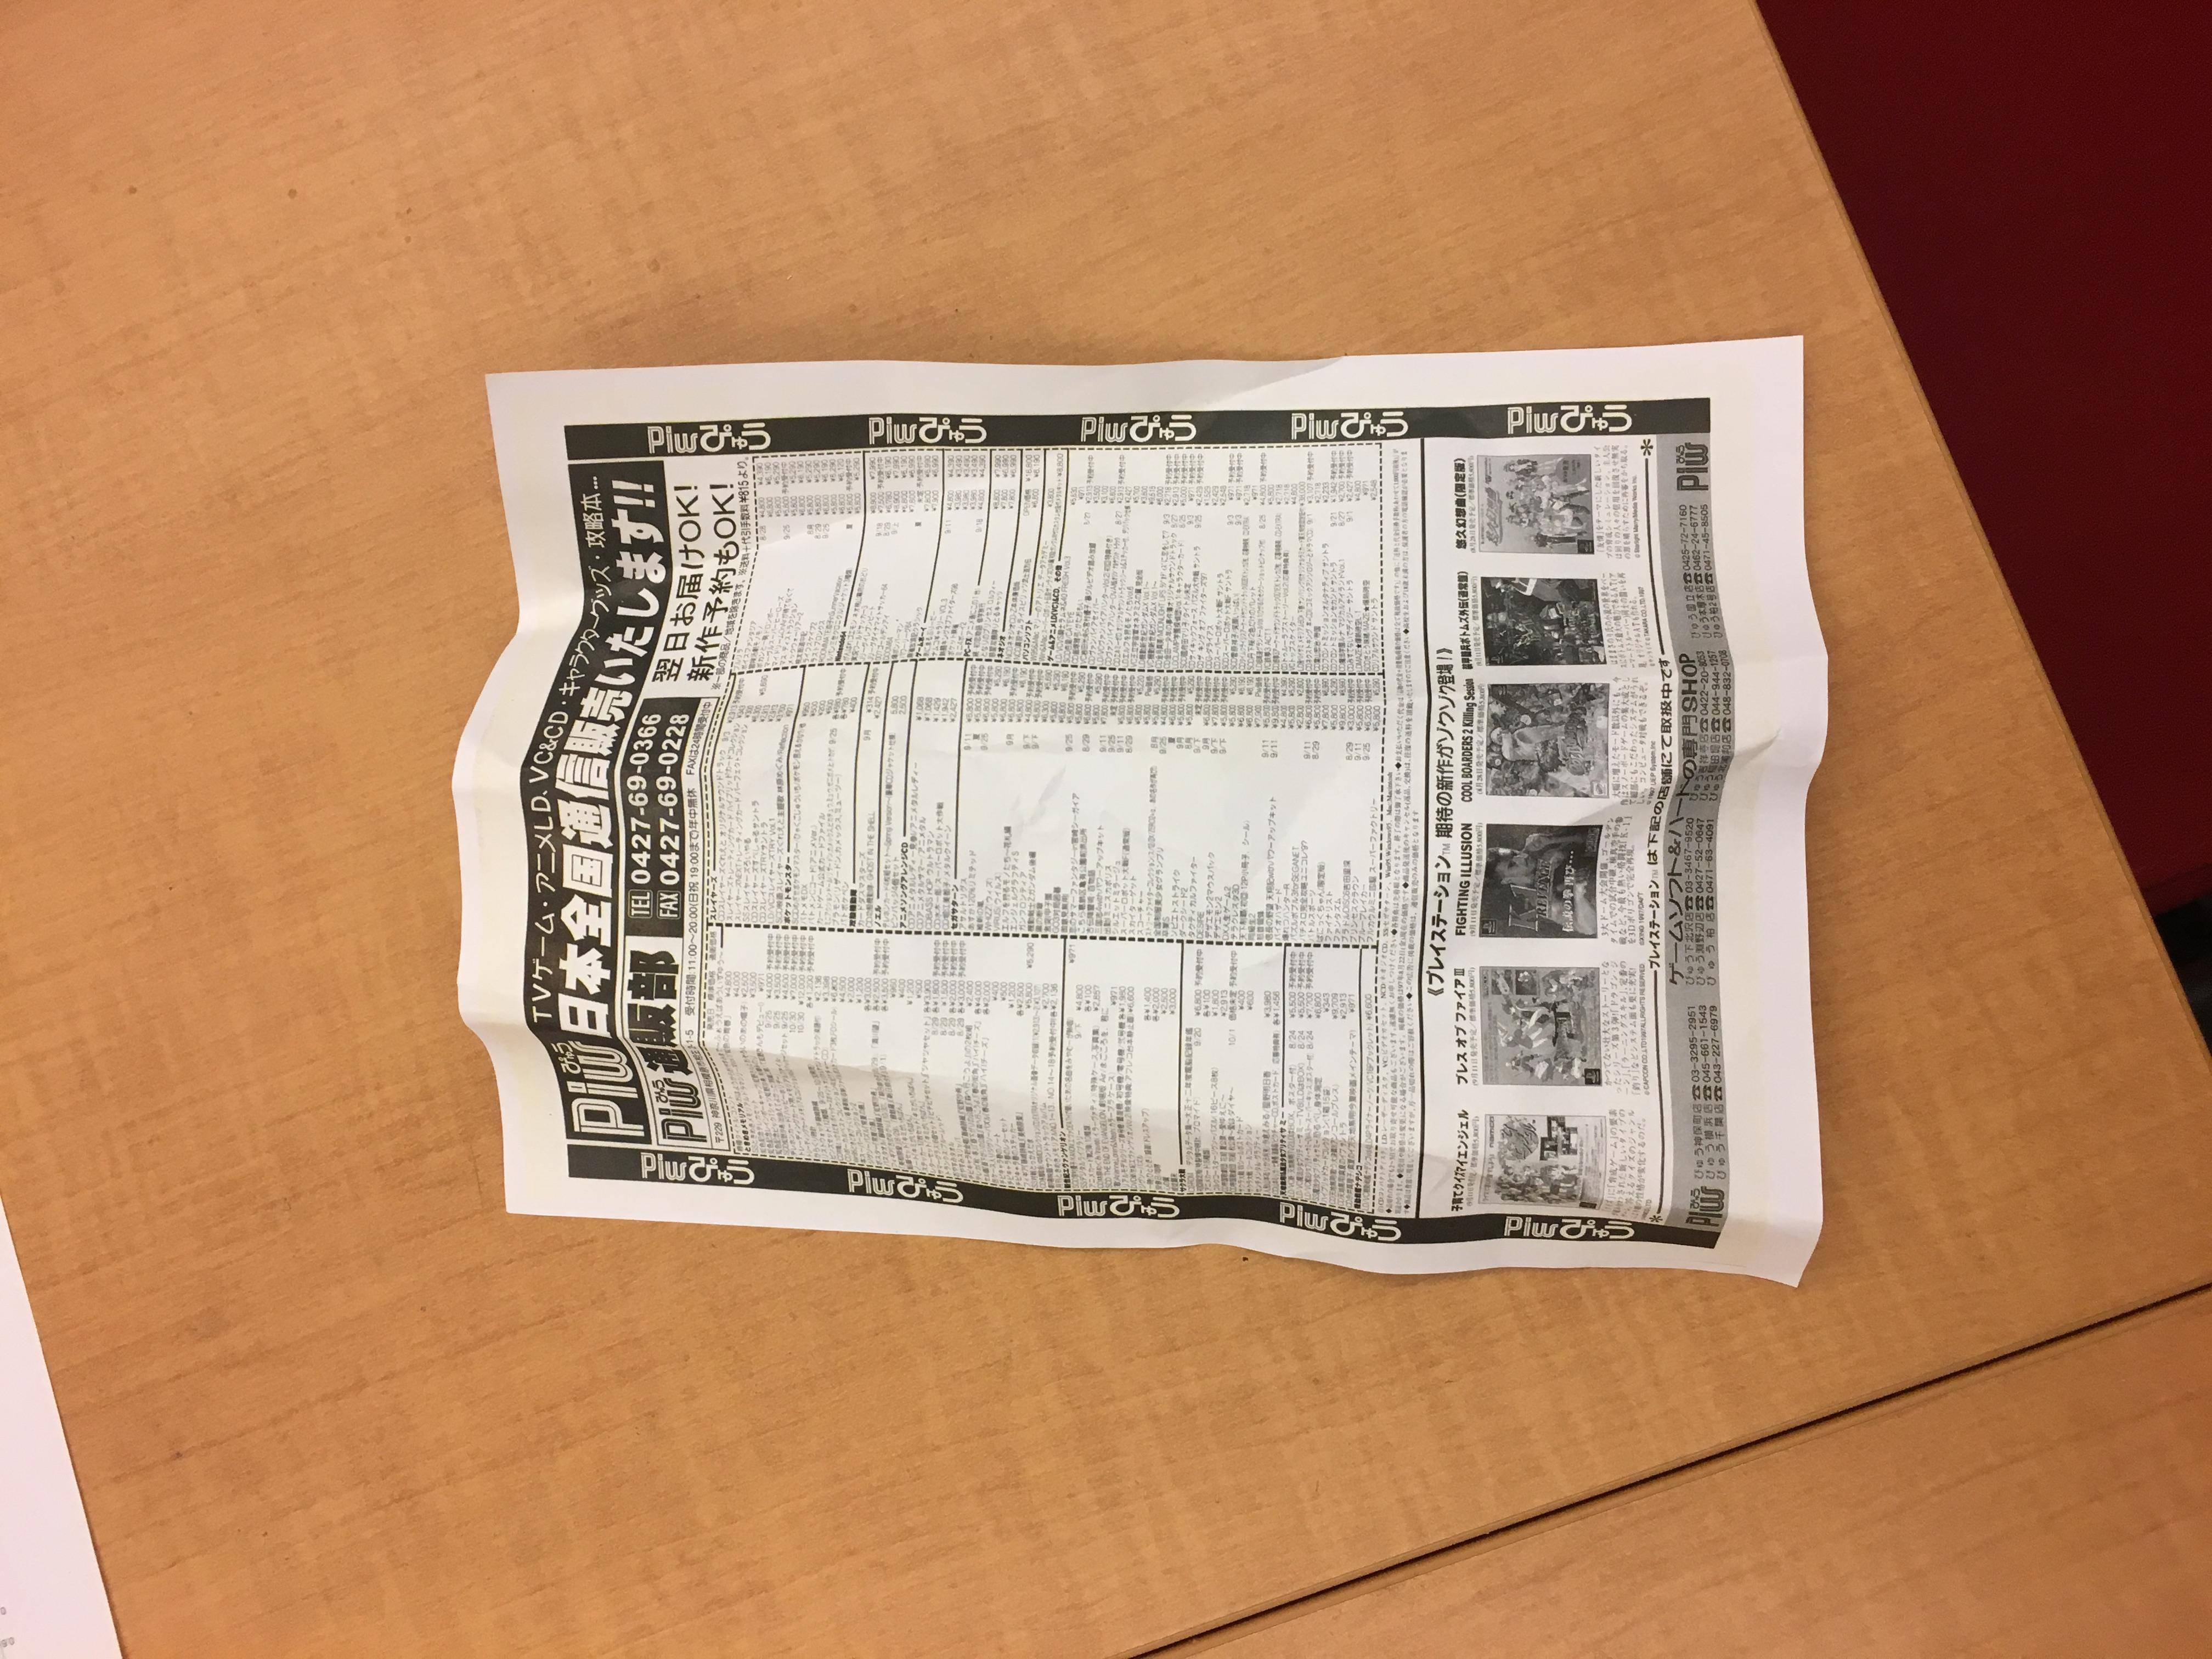paper: (456, 293, 1858, 1509)
